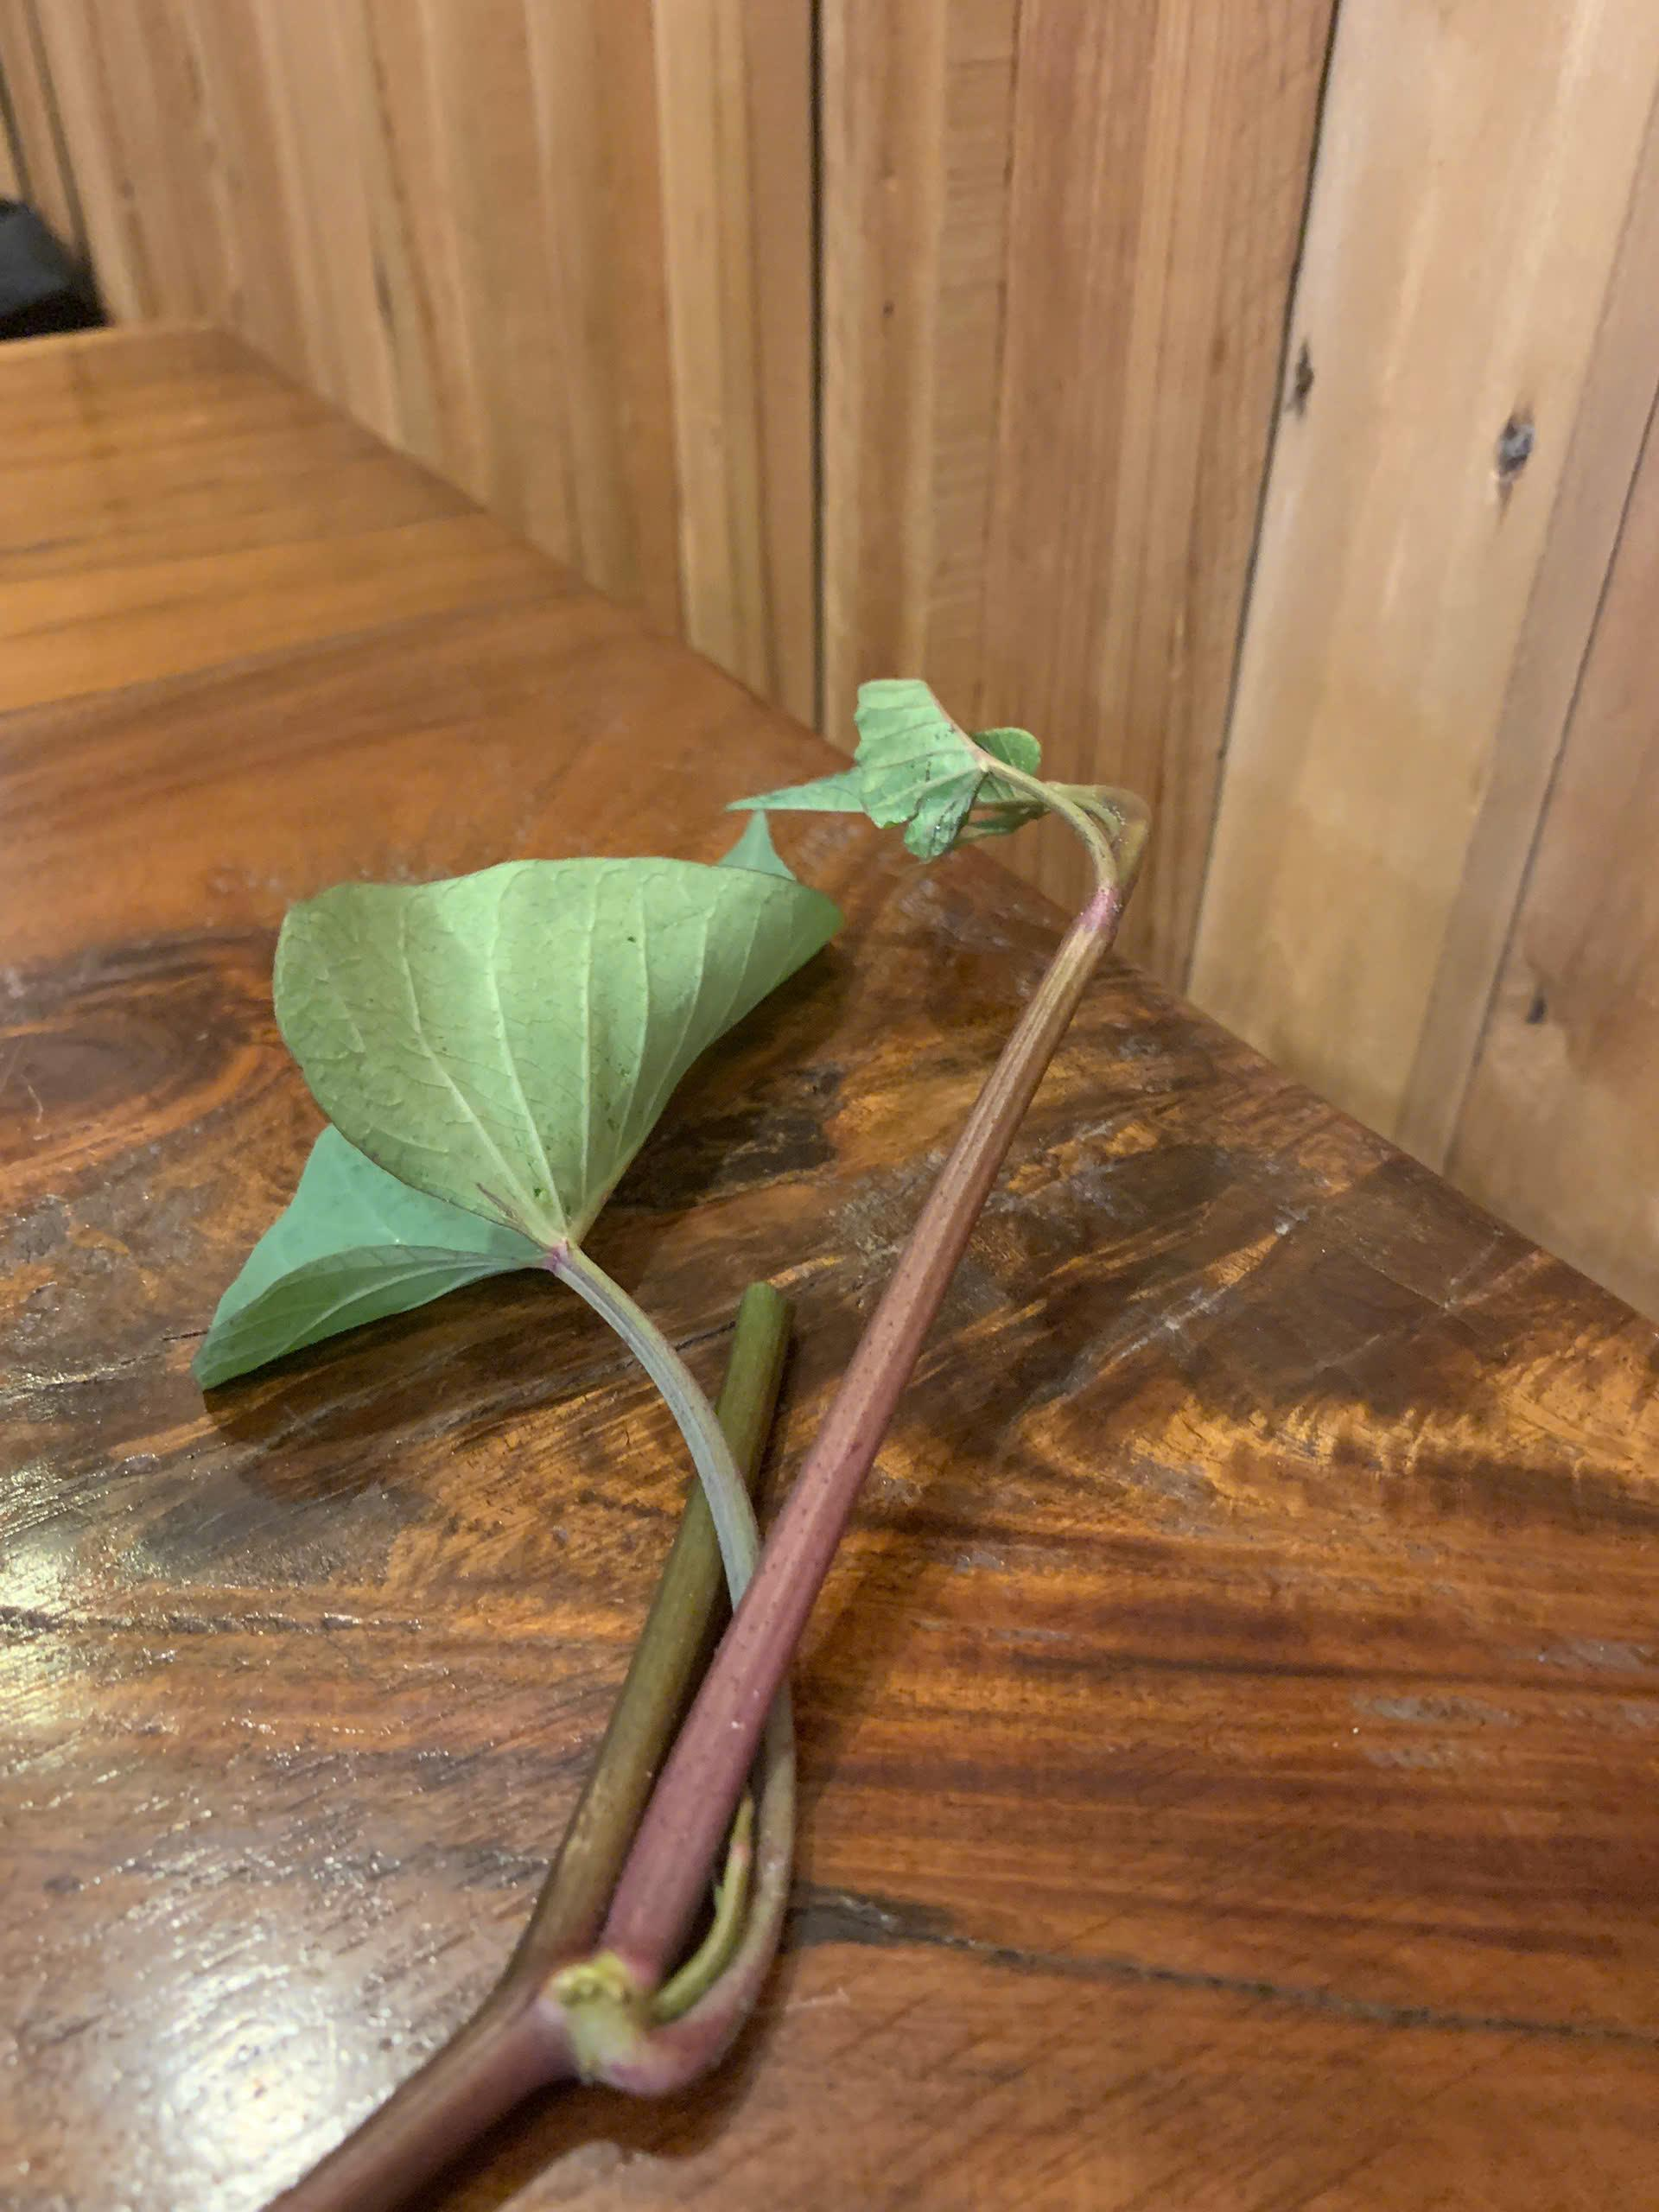Huu co: (195, 683, 1171, 2212)
